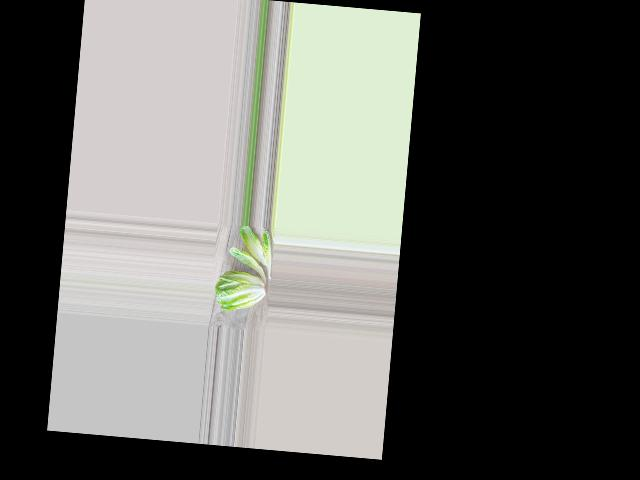lettuce: (213, 267, 266, 315)
